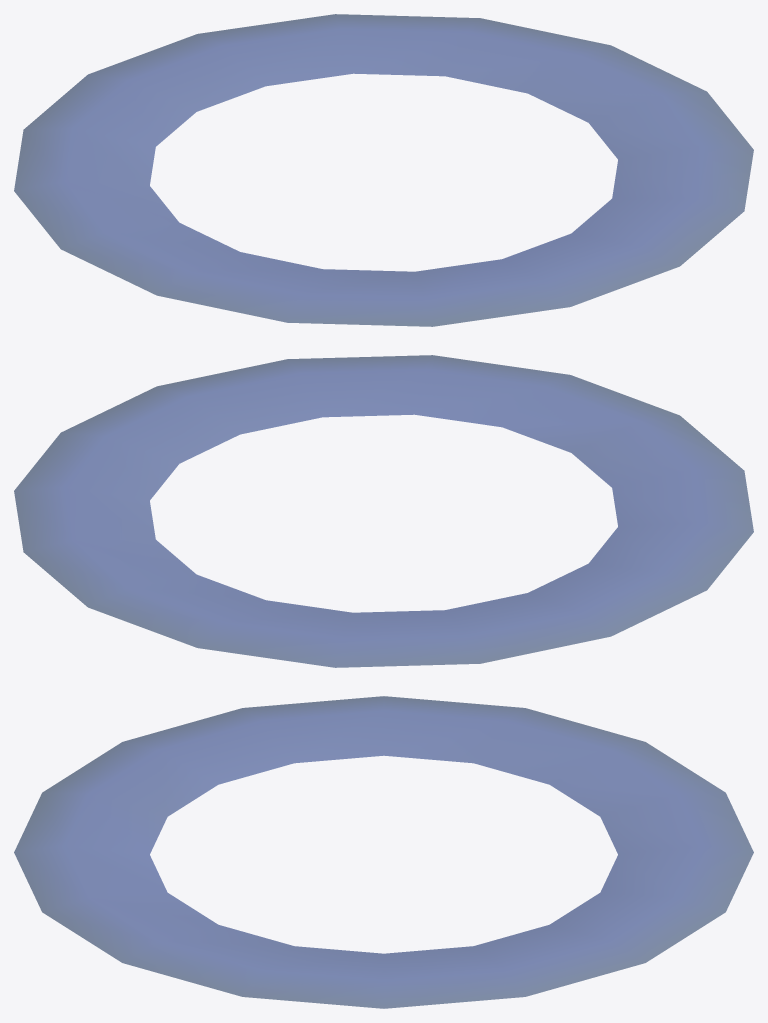
File: space-galaxies-ring-galaxy_v5.glb
3 renders of one model, top to bottom at view 1: azimuth 30°, elevation 25°; view 2: azimuth 150°, elevation 25°; view 3: azimuth 270°, elevation 25°, orthographic.
Visible parts, largest first — view 1: Ring Galaxy_v5; view 2: Ring Galaxy_v5; view 3: Ring Galaxy_v5.
Part boxes in pixels (box(x1,y1,x2,y2)): Ring Galaxy_v5: box(14, 14, 753, 326); Ring Galaxy_v5: box(14, 355, 753, 667); Ring Galaxy_v5: box(14, 696, 753, 1008).
Bounding box in the file's own units: 0.5 × 0.0111 × 0.5.
